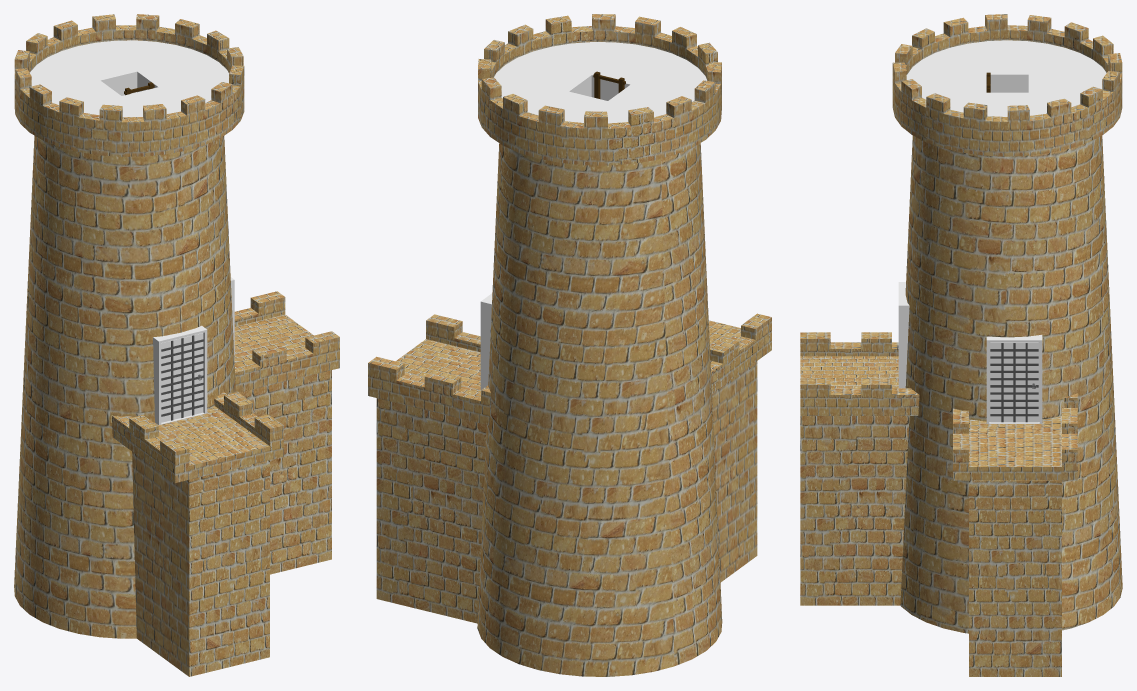
Rendered from tower.gltf.
The picture shows the model from 3 angles, left to right: view 1: azimuth 30°, elevation 25°; view 2: azimuth 150°, elevation 25°; view 3: azimuth 270°, elevation 25°; orthographic projection. The views are drawn at different scales.
Parts seen in each view (by area): view 1: castle tower4.003, wall2.001, Circle.005, Cube.067, Cube.065; view 2: castle tower4.003, Circle.005, wall2.001, Cube.067, Cube.066; view 3: castle tower4.003, wall2.001, Circle.005, Cube.067, Cube.066, Cube.065.
Part boxes in pixels (<box>): castle tower4.003: <box>14,135,235,638</box>; wall2.001: <box>132,370,331,676</box>; Circle.005: <box>14,14,244,156</box>; Cube.067: <box>112,291,339,482</box>; Cube.065: <box>153,325,207,424</box>; castle tower4.003: <box>477,143,722,676</box>; Circle.005: <box>478,14,721,165</box>; wall2.001: <box>376,361,757,623</box>; Cube.067: <box>368,313,771,425</box>; Cube.066: <box>480,293,492,390</box>; castle tower4.003: <box>900,135,1122,633</box>; wall2.001: <box>800,416,1061,676</box>; Circle.005: <box>892,14,1122,156</box>; Cube.067: <box>800,332,1077,480</box>; Cube.066: <box>986,334,1042,423</box>; Cube.065: <box>898,282,909,388</box>.
Bounding box in the file's own units: 8 × 14.23 × 7.91.
7 materials, 1 textured.
